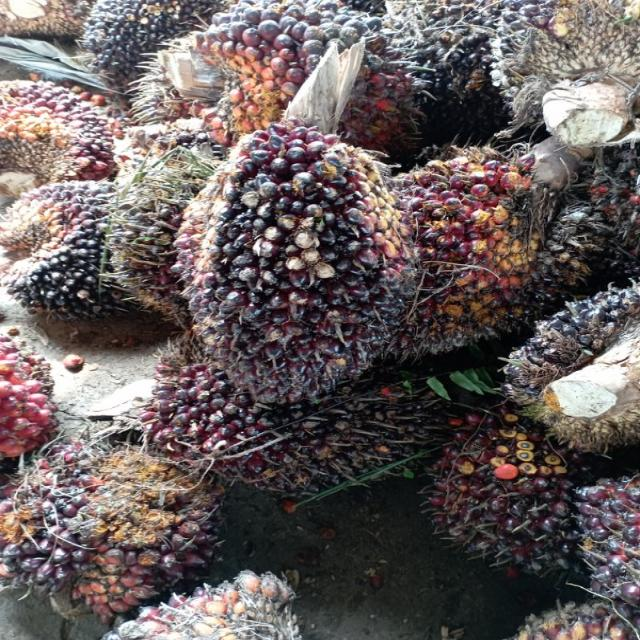fraksi 00: (190, 124, 420, 409), (0, 430, 235, 602), (2, 175, 163, 324)
fraksi 1: (381, 141, 611, 360), (162, 350, 426, 489), (168, 0, 406, 137)
